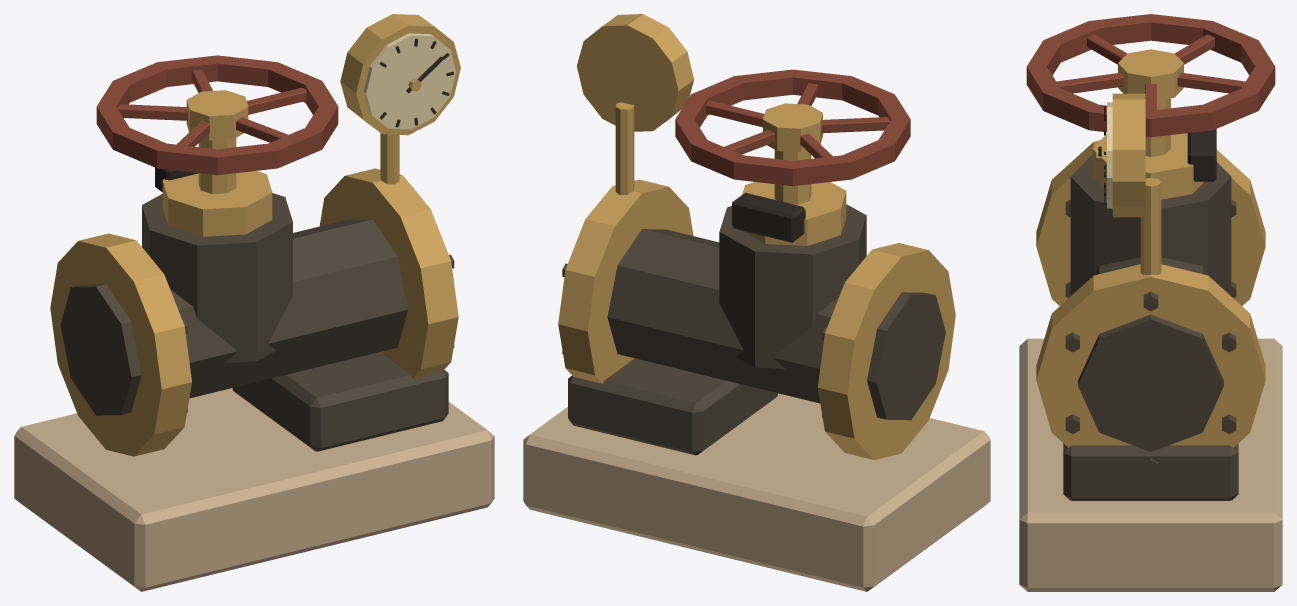
The model's file is valve_station_01.glb.
The picture shows the model from 3 angles, left to right: view 1: azimuth 30°, elevation 25°; view 2: azimuth 150°, elevation 25°; view 3: azimuth 270°, elevation 25°; orthographic projection. The views are drawn at different scales.
Visible parts, largest first — view 1: Plinth, Main_body, Pipe_flange_Flange, Valve_bell, Pump_foot, Wheel_rim, Pipe_flange_Flange_001, Pressure_Cream_face, Valve_collar, Pressure_Housing, Wheel, Wheel_hub (+2 smaller); view 2: Plinth, Main_body, Pipe_flange_Flange, Valve_bell, Pump_foot, Wheel_rim, Pipe_flange_Flange_001, Pressure_Housing, Wheel, Valve_collar, Mechanical_stop, Wheel_hub (+2 smaller); view 3: Plinth, Pipe_flange_Flange_001, Main_body, Wheel_rim, Valve_bell, Pump_foot, Pipe_flange_Flange, Pressure_Housing, Wheel, Valve_collar, Wheel_hub, Gauge_stem (+4 smaller).
Boxes of the visible parts, x1=… form: Plinth: x1=14, y1=388, x2=494, y2=591; Main_body: x1=60, y1=219, x2=407, y2=415; Pipe_flange_Flange: x1=50, y1=233, x2=191, y2=456; Valve_bell: x1=142, y1=193, x2=292, y2=363; Pump_foot: x1=232, y1=352, x2=448, y2=451; Wheel_rim: x1=96, y1=55, x2=338, y2=175; Pipe_flange_Flange_001: x1=319, y1=168, x2=458, y2=378; Pressure_Cream_face: x1=363, y1=33, x2=456, y2=129; Valve_collar: x1=162, y1=171, x2=272, y2=236; Pressure_Housing: x1=340, y1=14, x2=460, y2=135; Wheel: x1=117, y1=69, x2=306, y2=146; Wheel_hub: x1=186, y1=90, x2=248, y2=140; Plinth: x1=523, y1=393, x2=990, y2=591; Main_body: x1=607, y1=229, x2=945, y2=420; Pipe_flange_Flange: x1=817, y1=243, x2=955, y2=459; Valve_bell: x1=719, y1=204, x2=866, y2=369; Pump_foot: x1=568, y1=358, x2=777, y2=455; Wheel_rim: x1=675, y1=69, x2=910, y2=186; Pipe_flange_Flange_001: x1=558, y1=179, x2=693, y2=383; Pressure_Housing: x1=576, y1=14, x2=694, y2=131; Wheel: x1=706, y1=83, x2=890, y2=158; Valve_collar: x1=741, y1=182, x2=846, y2=245; Mechanical_stop: x1=732, y1=192, x2=805, y2=242; Wheel_hub: x1=763, y1=103, x2=822, y2=152; Plinth: x1=1019, y1=338, x2=1282, y2=591; Pipe_flange_Flange_001: x1=1036, y1=264, x2=1265, y2=447; Main_body: x1=1078, y1=257, x2=1223, y2=451; Wheel_rim: x1=1026, y1=14, x2=1275, y2=137; Valve_bell: x1=1070, y1=154, x2=1231, y2=295; Pump_foot: x1=1063, y1=443, x2=1238, y2=500; Pipe_flange_Flange: x1=1036, y1=140, x2=1265, y2=305; Pressure_Housing: x1=1112, y1=93, x2=1145, y2=217; Wheel: x1=1056, y1=34, x2=1245, y2=110; Valve_collar: x1=1092, y1=133, x2=1203, y2=199; Wheel_hub: x1=1118, y1=49, x2=1183, y2=100; Gauge_stem: x1=1140, y1=177, x2=1161, y2=274.
Size of the model in its own units: 1.33 by 1.59 by 0.8.
